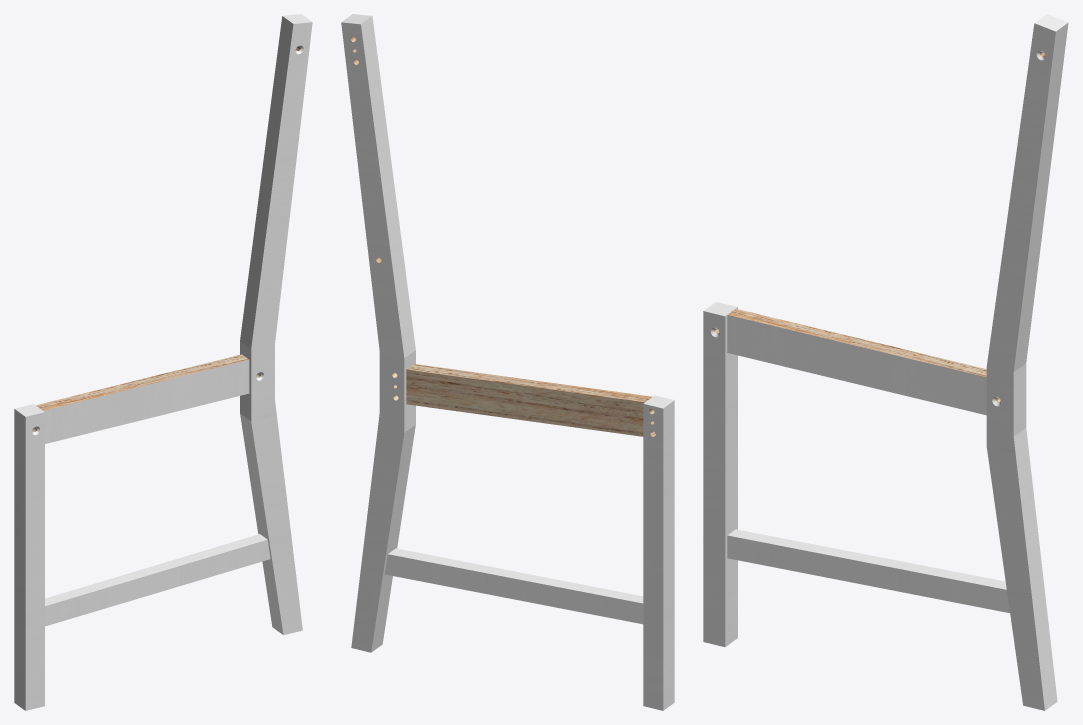
Rendered from Ikea_stefan_side_left.obj.
The picture shows the model from 3 angles, left to right: view 1: azimuth 30°, elevation 25°; view 2: azimuth 150°, elevation 25°; view 3: azimuth 330°, elevation 25°; orthographic projection. The views are drawn at different scales.
Visible parts, largest first — view 1: Ikea_stefan_side_left; view 2: Ikea_stefan_side_left; view 3: Ikea_stefan_side_left.
Boxes of the visible parts, x1,y1,x2,y2 form: Ikea_stefan_side_left: (14,14,312,710); Ikea_stefan_side_left: (341,14,674,710); Ikea_stefan_side_left: (703,14,1068,710).
Size of the model in its own units: 465 by 901 by 65.
1 material, 1 textured.
